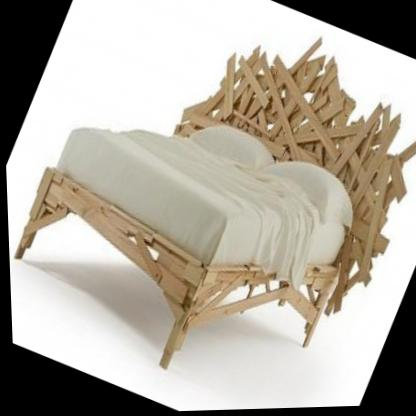Bed: (2, 58, 382, 416)
